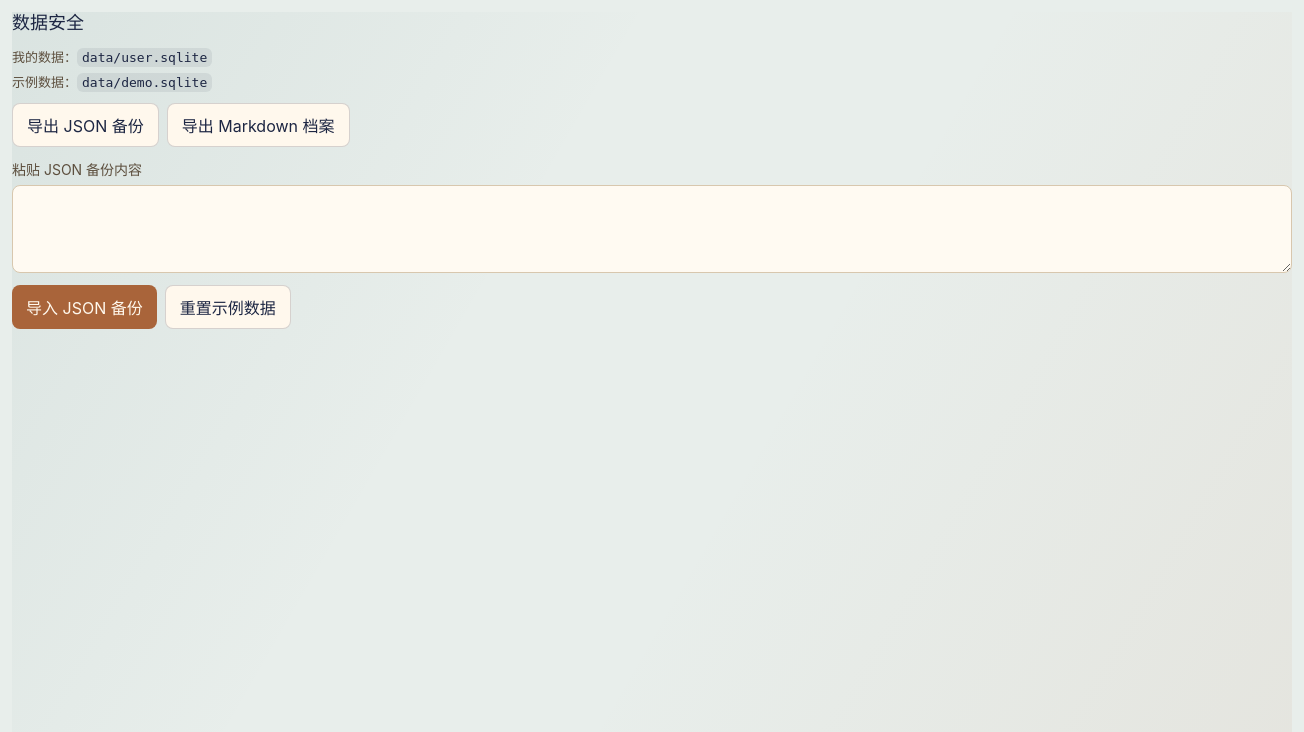
Test: DataSafetyPanel › shows an error for invalid import JSON
Type "not-json" into the text box labelled "粘贴 JSON 备份内容" at (652, 228), box [12,184,1292,272]
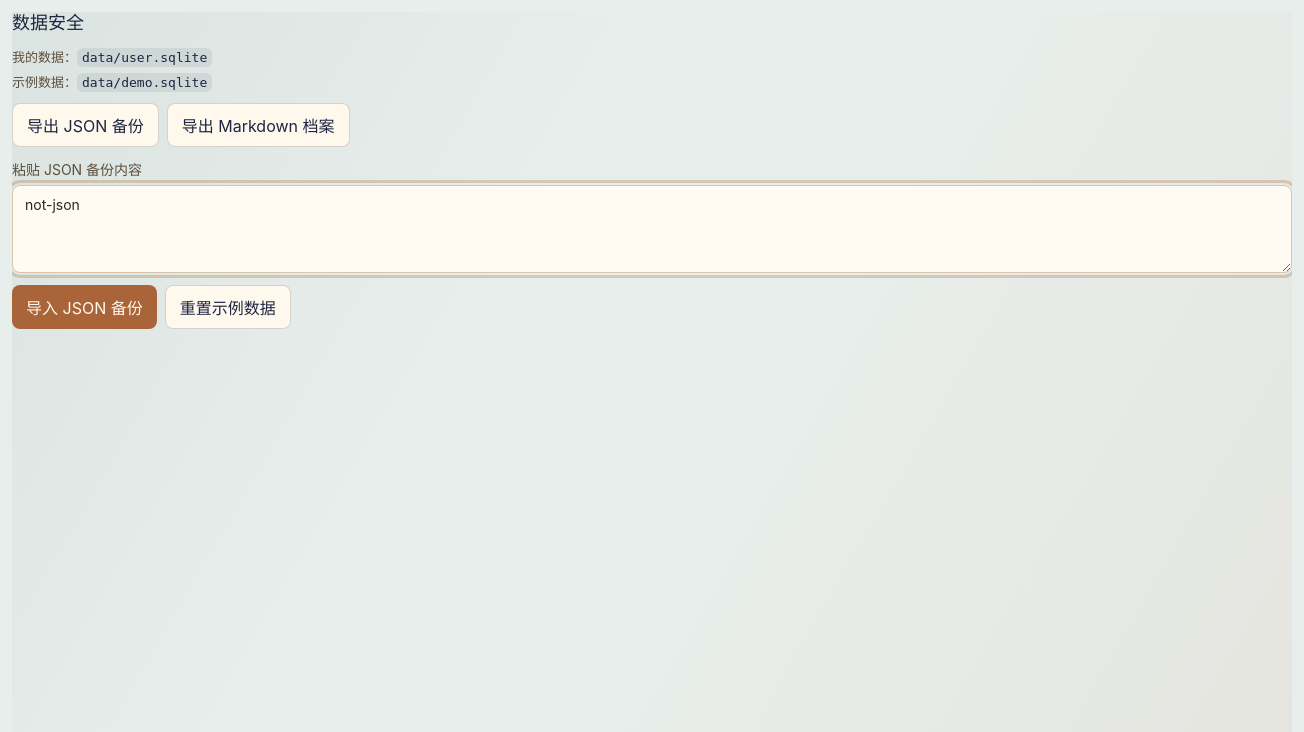
Click the button "导入 JSON 备份" at (84, 306), box [12,284,157,328]
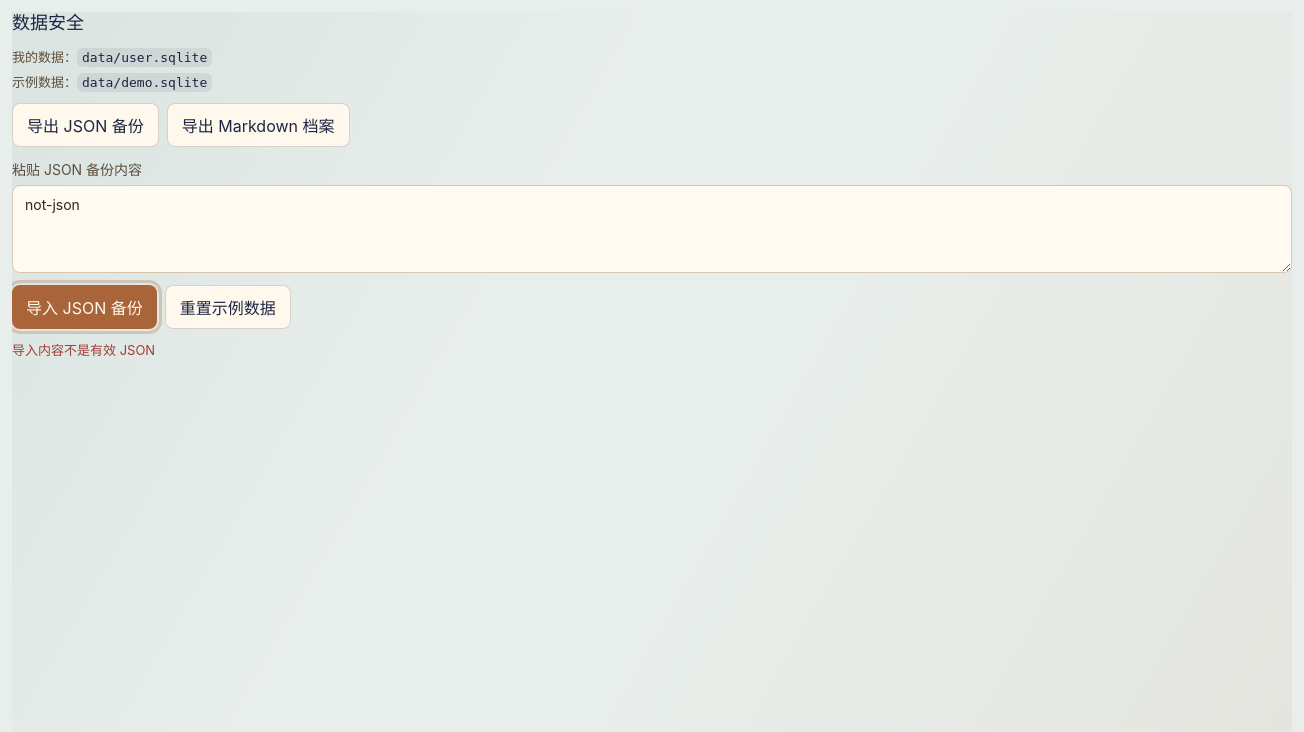
Check: the message reads "导入内容不是有效 JSON", box [12,342,155,358]
